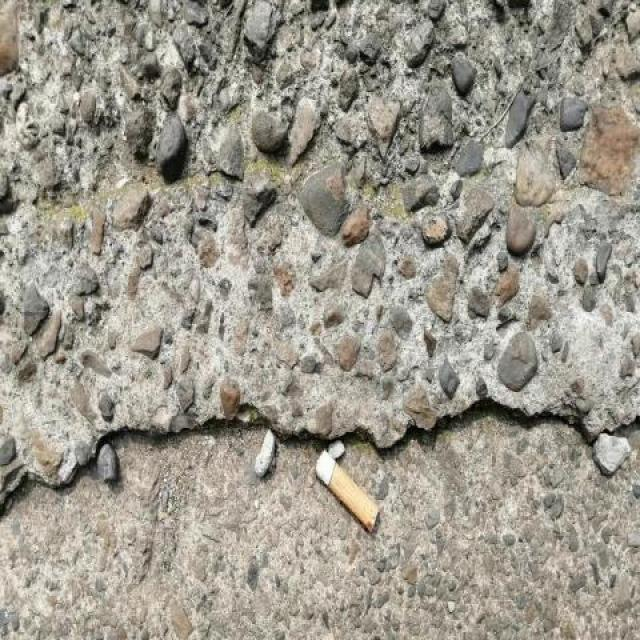non-organic waste: (307, 446, 382, 538)
